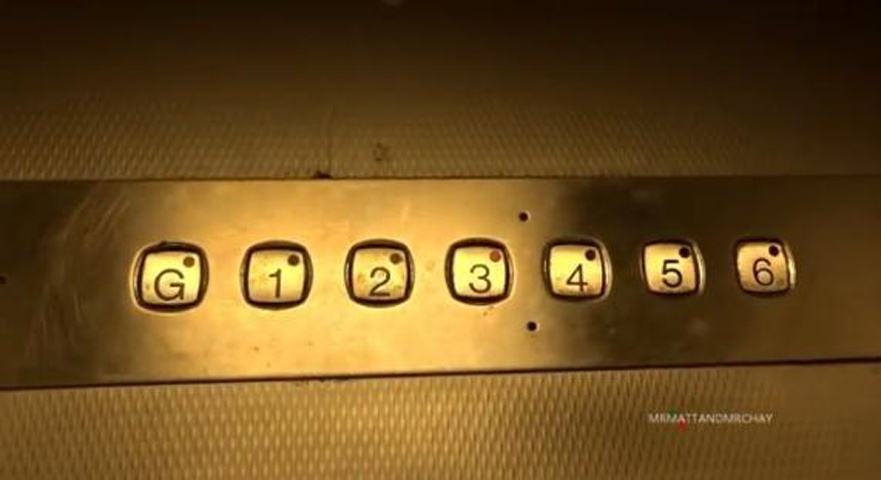1: (234, 232, 317, 317)
2: (338, 234, 419, 313)
3: (435, 232, 518, 312)
4: (534, 230, 617, 310)
5: (634, 231, 708, 304)
6: (726, 230, 800, 303)
G: (123, 235, 214, 319)
